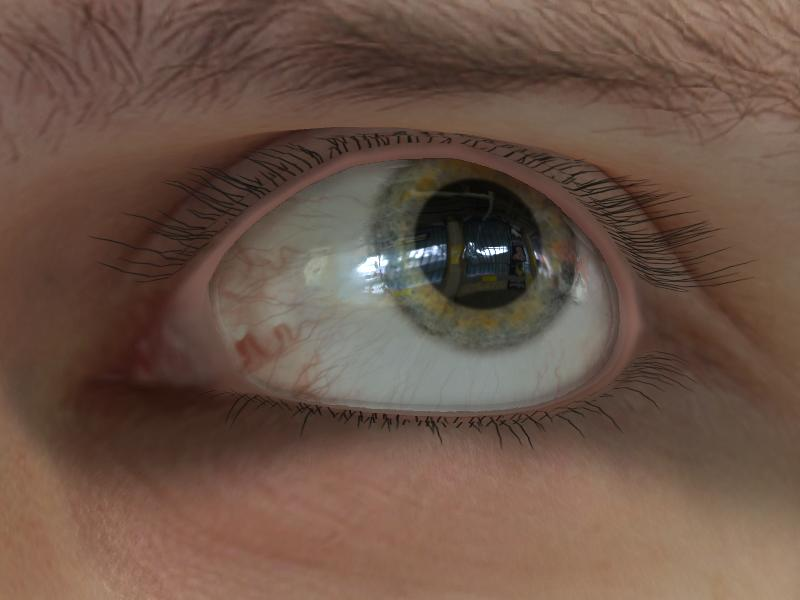eye: (368, 159, 580, 347)
